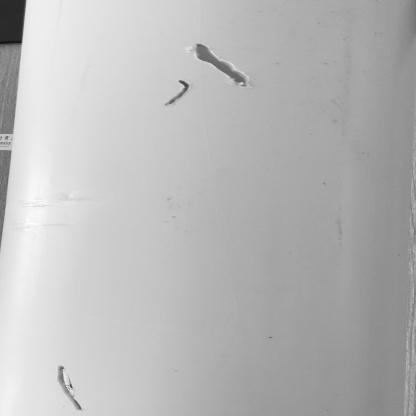fengxi: (171, 74, 195, 111)
sunshang: (189, 35, 270, 95), (48, 354, 85, 414)
